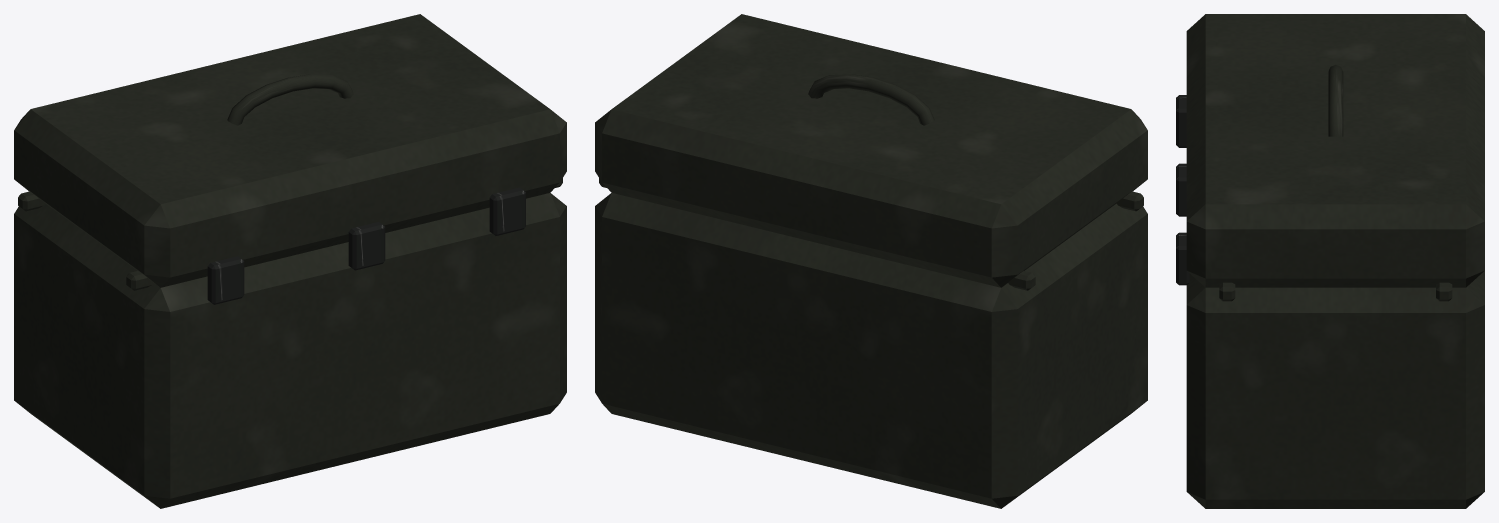
The model's file is S7U_DroneCase.fbx.
3 renders of one model, left to right at view 1: azimuth 30°, elevation 25°; view 2: azimuth 150°, elevation 25°; view 3: azimuth 270°, elevation 25°, orthographic.
Visible parts, largest first — view 1: S7U_DroneCase; view 2: S7U_DroneCase; view 3: S7U_DroneCase.
Boxes of the visible parts, box(x1,y1,x2,y2) form: S7U_DroneCase: box(14, 14, 566, 508); S7U_DroneCase: box(595, 14, 1147, 508); S7U_DroneCase: box(1176, 14, 1484, 508).
Size of the model in its own units: 0.92 by 0.684 by 0.5695.
